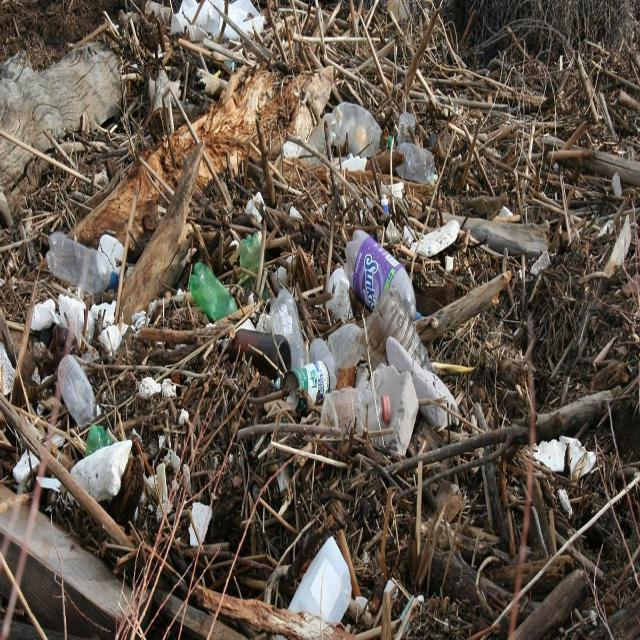Plastic_Bag: (309, 105, 381, 156)
Plastic_bottle: (345, 231, 416, 319), (366, 286, 430, 370), (46, 231, 112, 294), (320, 388, 391, 433), (229, 329, 291, 379), (58, 355, 98, 426), (270, 288, 305, 368), (190, 262, 238, 320), (396, 143, 436, 185), (309, 338, 339, 390), (329, 324, 362, 369), (240, 233, 261, 273)
Thermocol: (289, 538, 351, 625), (374, 367, 419, 456), (71, 440, 131, 502), (415, 219, 459, 257)
Tin_box: (285, 362, 329, 402)
